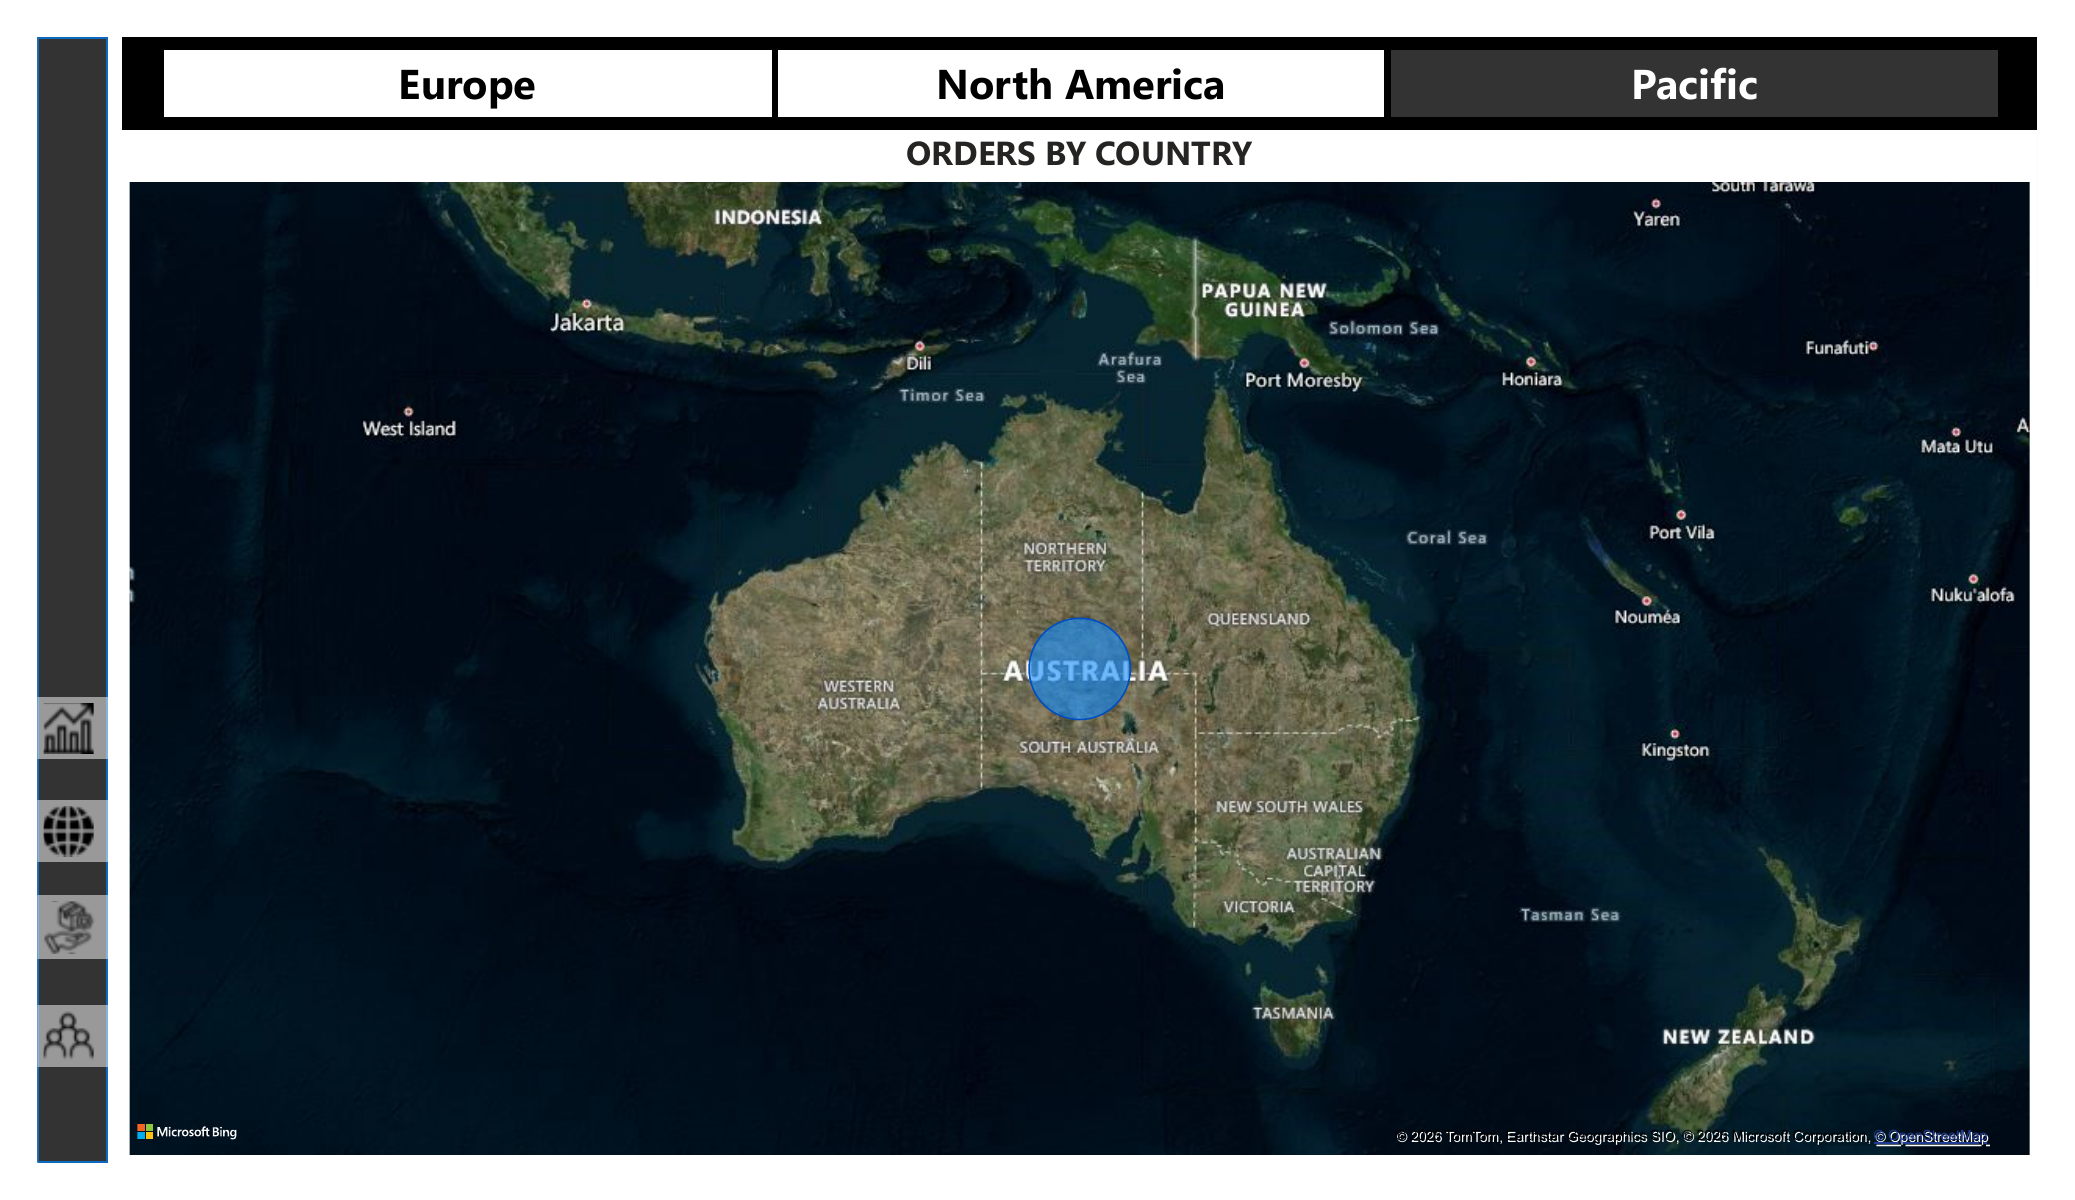

This screenshot's page, from the dashboard's own definition file:
{"tool":"powerbi","page":{"name":"Map","canvas":[1280,720],"ordinal":1},"visuals":[{"type":"map","title":"ORDERS BY COUNTRY","fields":{"Category":["Territory Lookup.Country"],"Size":["Table Measures.Total orders"]},"box":[53.8,58.7,1226.5,661.6],"z":0},{"type":"actionButton","box":[0,421.9,45.2,40.4],"z":0,"group":"g1"},{"type":"slicer","fields":{"Values":["Territory Lookup.Continent"]},"box":[53.8,0,1226.5,58.7],"z":1000},{"type":"actionButton","box":[0,487.9,45.2,40.4],"z":1000,"group":"g1"},{"type":"shape","title":"Left nav Bar","box":[0,0,45,720],"z":2000},{"type":"actionButton","box":[0,549.1,45.2,40.4],"z":2000,"group":"g1"},{"type":"group","id":"g1","title":"Custom Nevigation Buttons ","box":[0,421.9,45.2,237.2],"z":3000},{"type":"actionButton","box":[0,618.8,45.2,40.4],"z":3000,"group":"g1"}]}

Visuals, with their boxes on the page's 1280x720 design canvas (x1, y1, x2, y2). These are canvas units, not pixel positions in the 2075x1200 screenshot, which may show the page scaled, cropped or inside an application window:
"ORDERS BY COUNTRY" map: BBox(54, 59, 1280, 720)
actionButton: BBox(0, 422, 45, 462)
slicer - Territory Lookup.Continent: BBox(54, 0, 1280, 59)
actionButton: BBox(0, 488, 45, 528)
"Left nav Bar" shape: BBox(0, 0, 45, 720)
actionButton: BBox(0, 549, 45, 590)
"Custom Nevigation Buttons " group: BBox(0, 422, 45, 659)
actionButton: BBox(0, 619, 45, 659)
